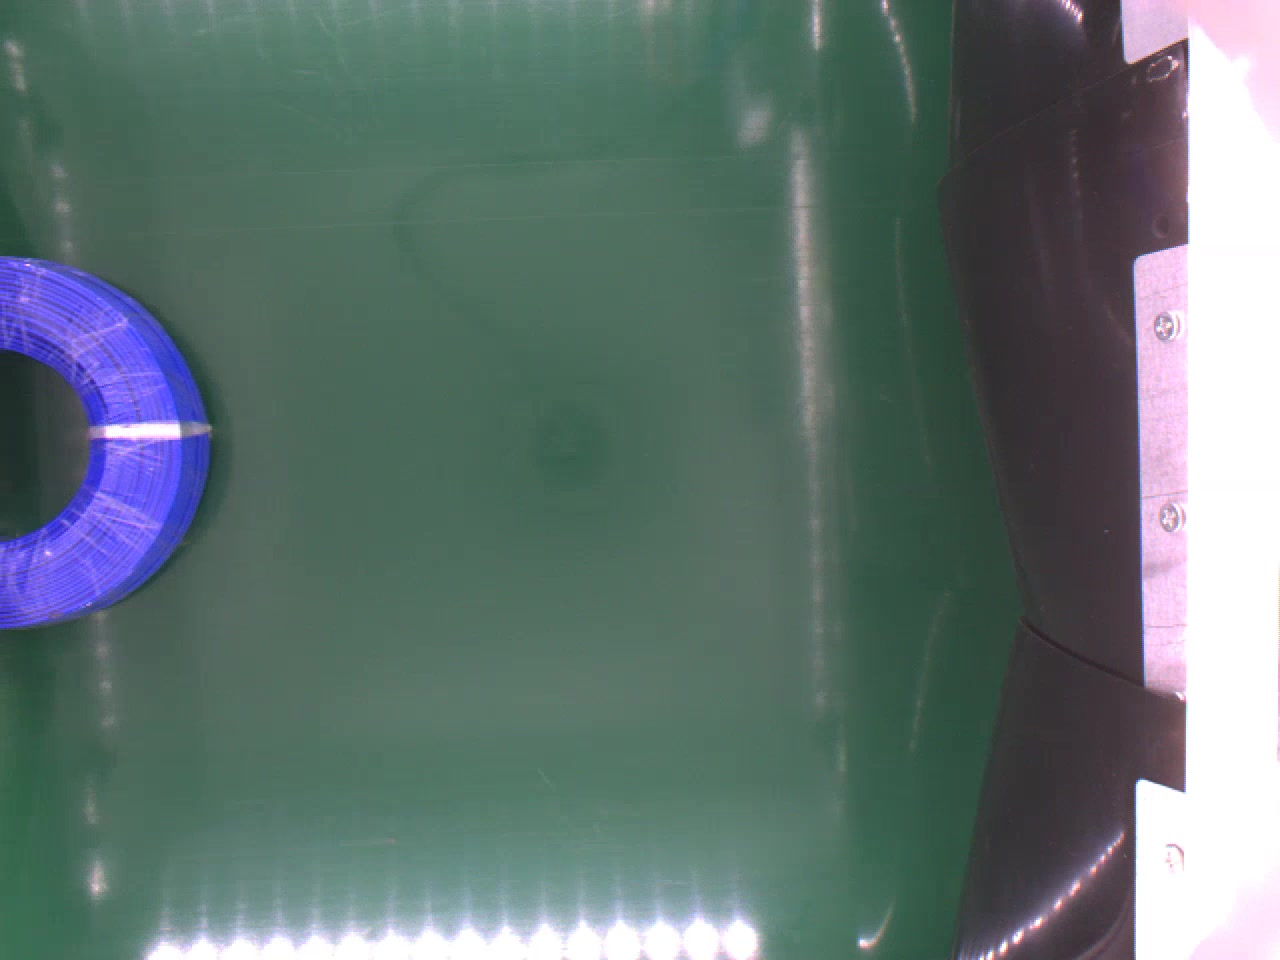blue: (0, 248, 213, 633)
